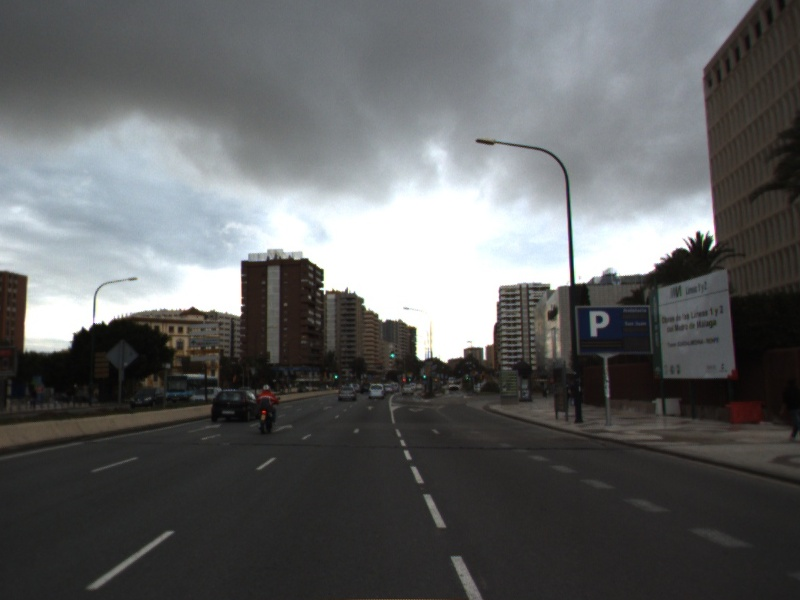STRAIGHT: (184, 421, 223, 435), (268, 421, 295, 434)
